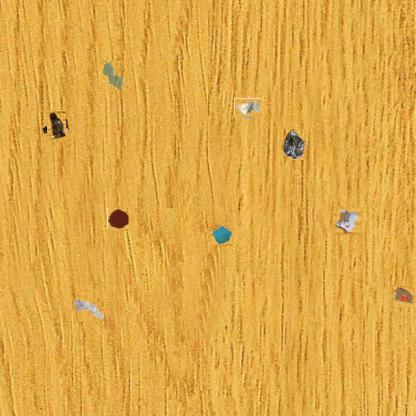dirty: (280, 128, 306, 160), (333, 207, 361, 235), (76, 298, 106, 322), (43, 113, 69, 139), (393, 285, 416, 308), (236, 96, 259, 119), (210, 224, 232, 246)
liquid: (100, 61, 124, 89), (107, 207, 130, 229)
